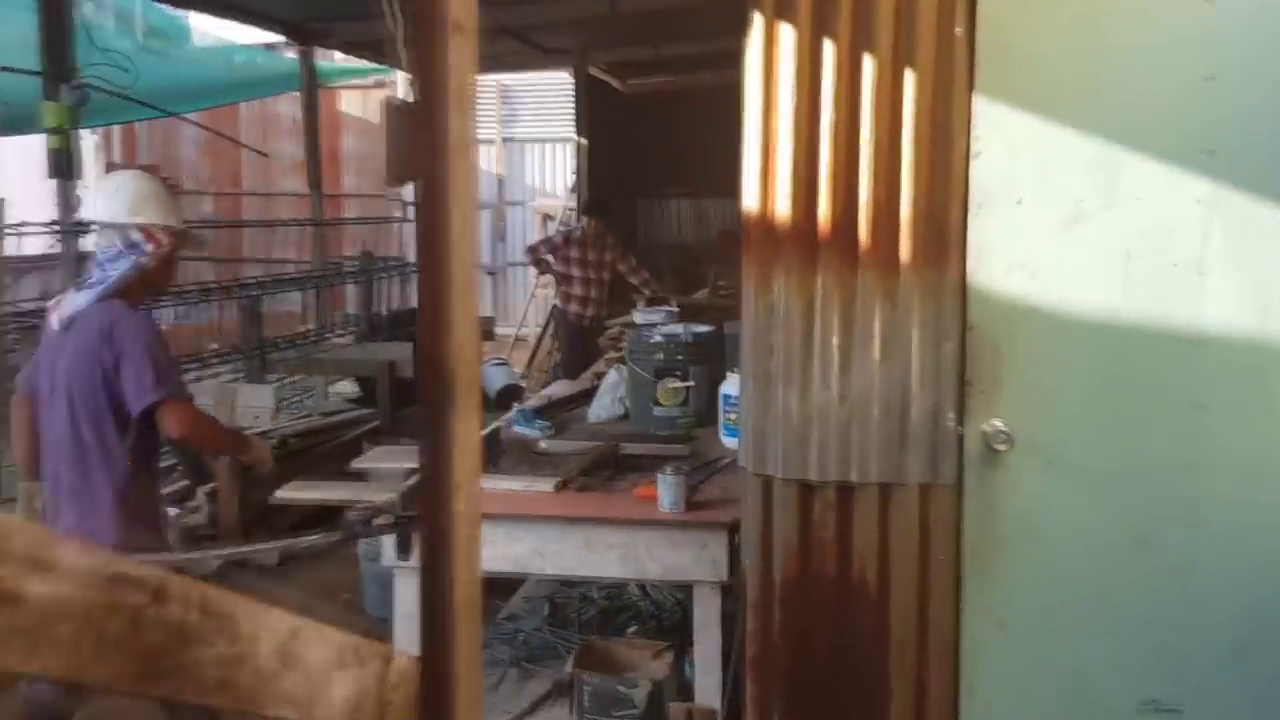helmet: (68, 168, 179, 228)
helmet-off: (580, 200, 615, 240)
helmet-on: (69, 159, 180, 318)
person: (4, 152, 282, 560), (525, 199, 679, 395)
